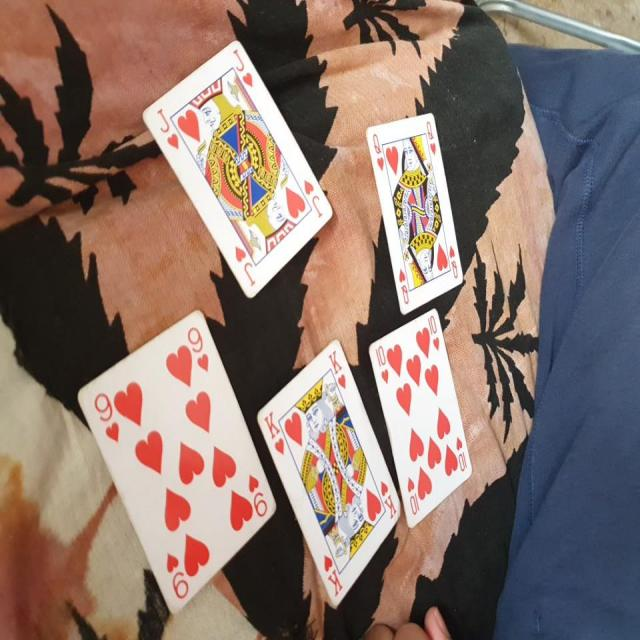10 Hearts: (356, 308, 473, 522)
9 Hearts: (78, 300, 279, 628)
J Hearts: (141, 39, 340, 310)
K Hearts: (250, 338, 406, 607)
Q Hearts: (360, 103, 464, 317)
